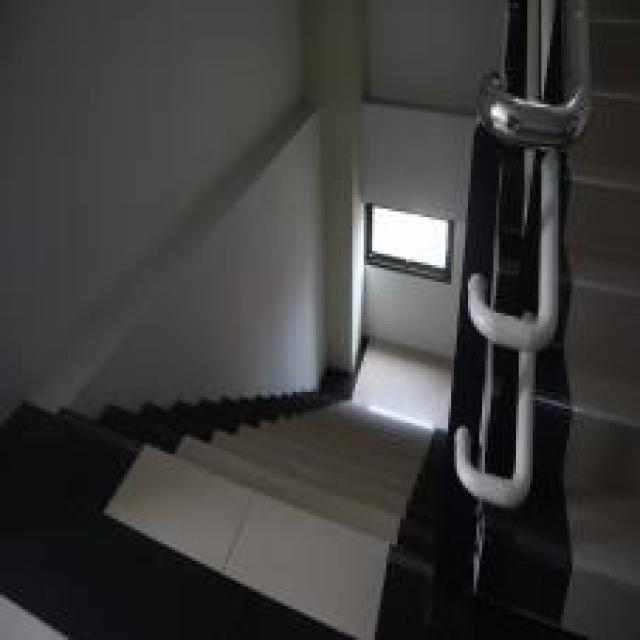downstair: (89, 325, 450, 638)
